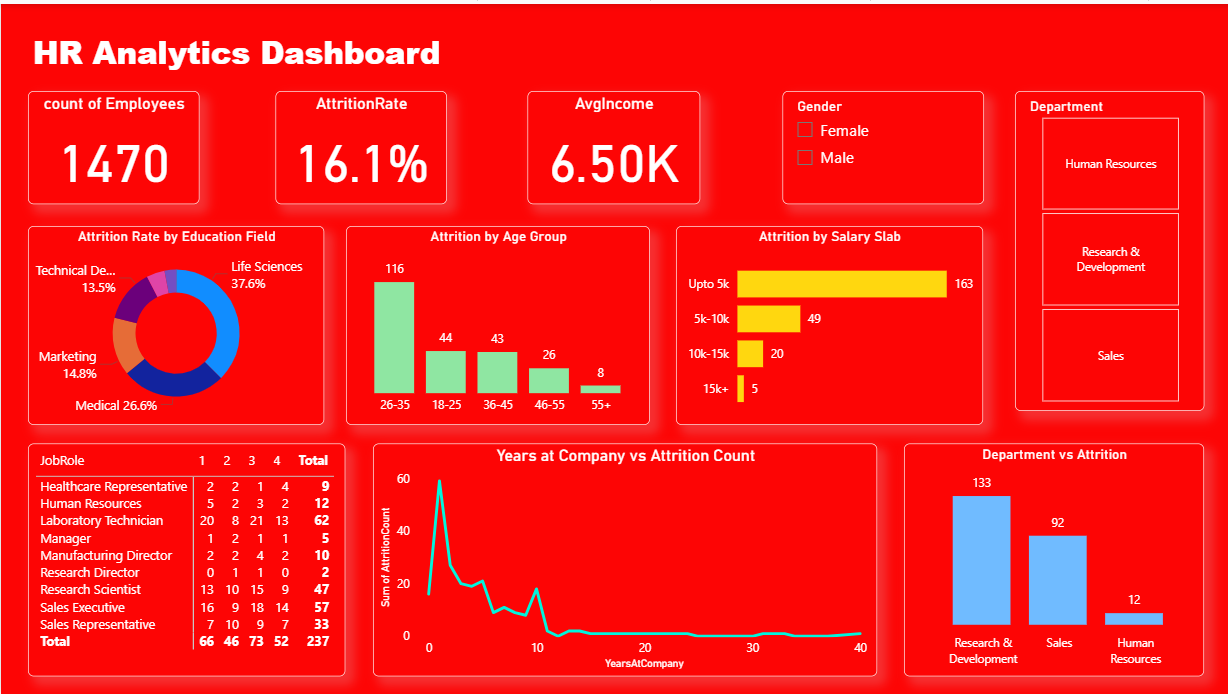

The page's visual inventory and layout, read from the dashboard file:
{"tool":"powerbi","page":{"name":"Page 1","canvas":[1280,720],"ordinal":0},"visuals":[{"type":"card","title":"count of Employees","fields":{"Values":["CountNonNull(HR_Analytics.EmpID)"]},"box":[28.8,90.6,178.4,118],"z":0},{"type":"card","title":"AttritionRate","fields":{"Values":["HR_Analytics.AttritionRate"]},"box":[286.8,90.6,178.4,118],"z":1000},{"type":"card","title":"AvgIncome","fields":{"Values":["Avg(HR_Analytics.MonthlyIncome)"]},"box":[548.9,90.6,179.8,118],"z":2000},{"type":"donutChart","title":"Attrition Rate by Education Field","fields":{"Category":["HR_Analytics.EducationField"],"Y":["Sum(HR_Analytics.AttritionCount)"]},"box":[28.8,231.9,308.7,207.2],"z":3000},{"type":"clusteredColumnChart","title":" Attrition by Age Group","fields":{"Category":["HR_Analytics.AgeGroup"],"Y":["Sum(HR_Analytics.AttritionCount)"]},"box":[359.5,231.9,317,207.2],"z":4000},{"type":"barChart","title":" Attrition by Salary Slab","fields":{"Category":["HR_Analytics.SalarySlab"],"Y":["Sum(HR_Analytics.AttritionCount)"]},"box":[703.9,231.9,319.7,207.2],"z":5000},{"type":"pivotTable","fields":{"Rows":["HR_Analytics.JobRole"],"Columns":["HR_Analytics.JobSatisfaction"],"Values":["Sum(HR_Analytics.AttritionCount)"]},"box":[28.8,458.3,330.7,242.9],"z":6000},{"type":"clusteredColumnChart","title":"Department vs  Attrition","fields":{"Category":["HR_Analytics.Department"],"Y":["Sum(HR_Analytics.AttritionCount)"]},"box":[941.3,458.3,312.9,242.9],"z":7000},{"type":"lineChart","title":"Years at Company vs Attrition Count","fields":{"Category":["HR_Analytics.YearsAtCompany"],"Y":["Sum(HR_Analytics.AttritionCount)"]},"box":[387,458.3,525.6,242.9],"z":8000},{"type":"slicer","fields":{"Values":["HR_Analytics.Department"]},"box":[1056.6,90.6,197.6,333.4],"z":9000},{"type":"textbox","box":[28.8,22,465.2,59],"z":10000},{"type":"slicer","fields":{"Values":["HR_Analytics.Gender"]},"box":[813.7,90.6,209.9,118],"z":11000}]}

Visuals, with their boxes in screenshot pixels (x1, y1, x2, y2), scaled from the page's 1280x720 canvas onto the 1228x694 screenshot:
"count of Employees" card: [x1=28, y1=87, x2=199, y2=201]
"AttritionRate" card: [x1=275, y1=87, x2=446, y2=201]
"AvgIncome" card: [x1=527, y1=87, x2=699, y2=201]
"Attrition Rate by Education Field" donutChart: [x1=28, y1=224, x2=324, y2=423]
" Attrition by Age Group" clusteredColumnChart: [x1=345, y1=224, x2=649, y2=423]
" Attrition by Salary Slab" barChart: [x1=675, y1=224, x2=982, y2=423]
pivotTable - HR_Analytics.JobRole x HR_Analytics.JobSatisfaction: [x1=28, y1=442, x2=345, y2=676]
"Department vs  Attrition" clusteredColumnChart: [x1=903, y1=442, x2=1203, y2=676]
"Years at Company vs Attrition Count" lineChart: [x1=371, y1=442, x2=876, y2=676]
slicer - HR_Analytics.Department: [x1=1014, y1=87, x2=1203, y2=409]
textbox: [x1=28, y1=21, x2=474, y2=78]
slicer - HR_Analytics.Gender: [x1=781, y1=87, x2=982, y2=201]
